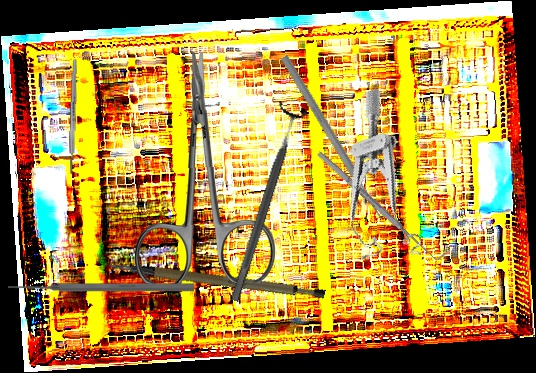Fixation Ring: (218, 100, 310, 306)
Hook Surgical: (314, 145, 447, 266)
Iris Scissors: (131, 50, 277, 285)
Pusher: (278, 53, 387, 223), (8, 281, 194, 293)
Scalpel Handle: (108, 228, 327, 328), (67, 58, 79, 175)
Speculum: (308, 88, 437, 274)
